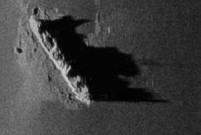ship: (28, 14, 93, 106)
